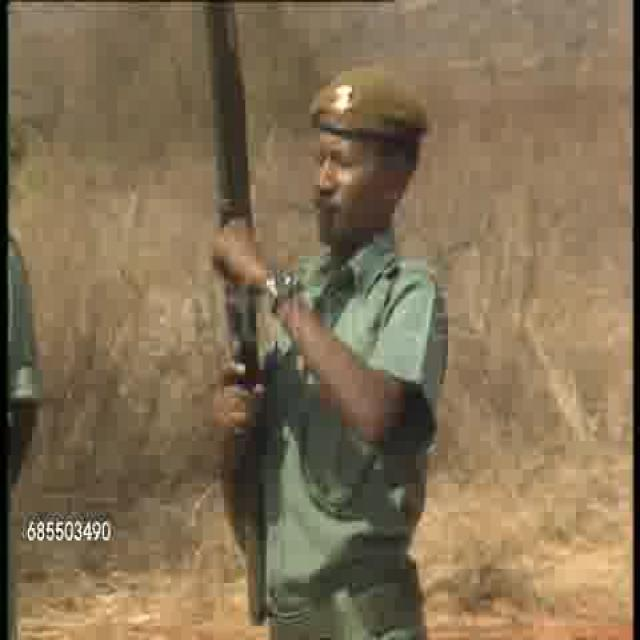poacher: (266, 42, 446, 570)
weapon: (202, 1, 272, 618)
